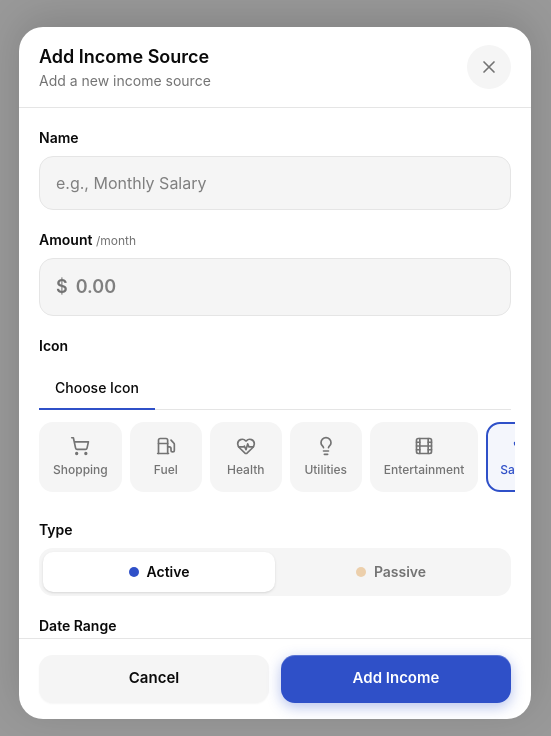
IncomePopin — submit-reveal validation › clears a field's error as soon as it is fixed, leaving the others
Step 1. Click the button "Add Income" → (396, 679), box [281, 655, 511, 703]
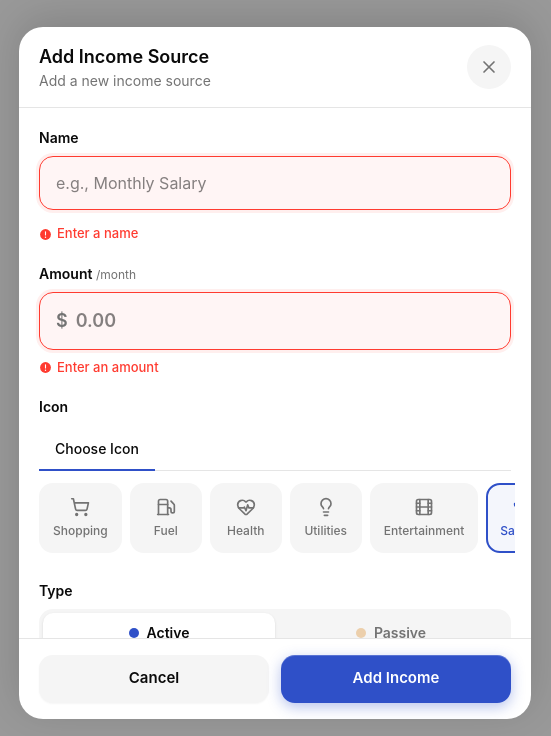
Step 2. Type "Salary" into the field with placeholder "e.g., Monthly Salary" → (275, 183), box [39, 156, 511, 210]
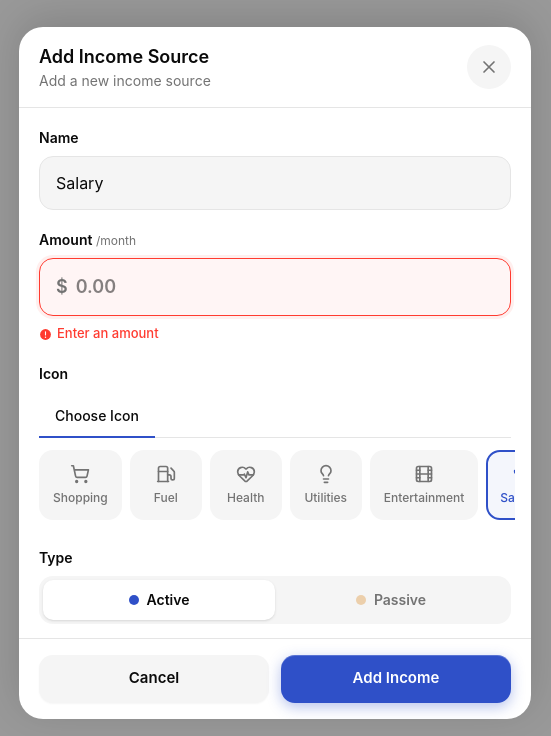
Check: the text "Enter an amount" is shown, box [57, 324, 159, 344]
Check: the text "Enter a name" is gone
